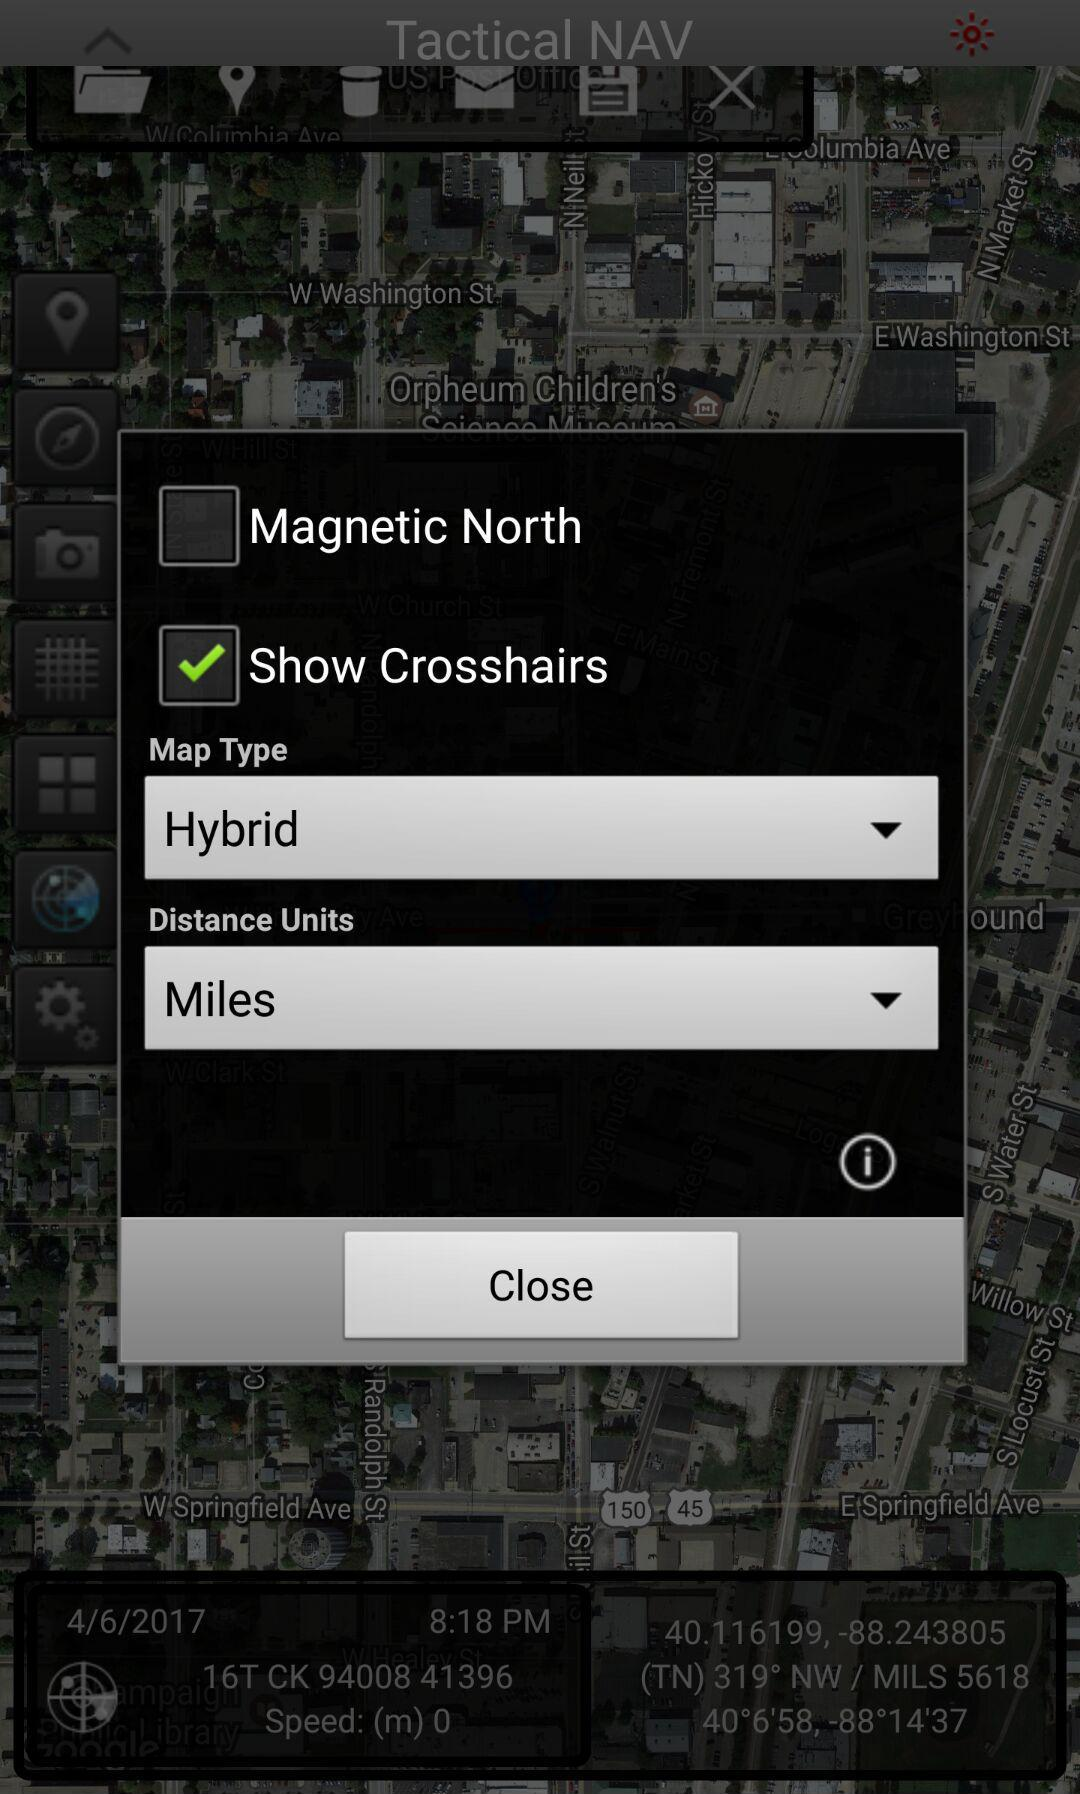CheckedTextView: (158, 624, 609, 709), (158, 484, 582, 570)
Icon: (838, 1132, 898, 1192)
Modal: (117, 428, 969, 1367)
Text: (252, 507, 582, 555), (249, 646, 609, 686), (150, 906, 355, 933), (150, 737, 288, 768)
TextButton: (143, 775, 939, 882), (143, 946, 940, 1051), (343, 1230, 740, 1340)
